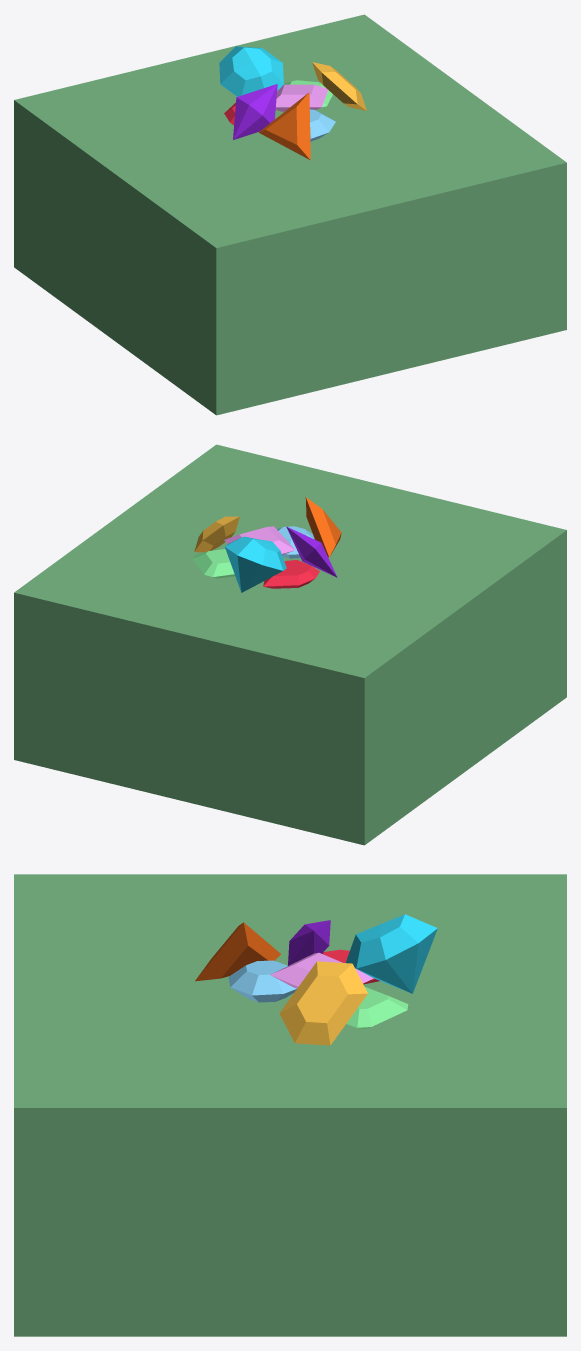
The model's file is GemPileForSketchfab.fbx.
The picture shows the model from 3 angles, top to bottom: view 1: azimuth 30°, elevation 25°; view 2: azimuth 150°, elevation 25°; view 3: azimuth 270°, elevation 25°; orthographic projection. The views are drawn at different scales.
Visible parts, largest first — view 1: Ground.001, LightBlue.001, Orange.001, Purple.001, Yellow.001, Pink.001, Blue.001; view 2: Ground.001, LightBlue.001, Orange.001, Red.001, Purple.001, Yellow.001, Green.001, Pink.001; view 3: Ground.001, Yellow.001, LightBlue.001, Orange.001, Blue.001, Green.001, Purple.001, Pink.001.
Part boxes in pixels (<box>): Ground.001: <box>14,14,566,415</box>; LightBlue.001: <box>219,46,283,96</box>; Orange.001: <box>259,92,310,160</box>; Purple.001: <box>233,84,277,139</box>; Yellow.001: <box>312,62,366,110</box>; Pink.001: <box>275,84,327,111</box>; Blue.001: <box>309,109,335,141</box>; Ground.001: <box>14,444,566,845</box>; LightBlue.001: <box>225,536,286,592</box>; Orange.001: <box>305,497,341,557</box>; Red.001: <box>263,560,319,588</box>; Purple.001: <box>286,526,337,577</box>; Yellow.001: <box>194,516,239,552</box>; Green.001: <box>192,549,234,578</box>; Pink.001: <box>224,526,295,554</box>; Ground.001: <box>14,874,566,1336</box>; Yellow.001: <box>279,961,367,1045</box>; LightBlue.001: <box>345,914,437,993</box>; Orange.001: <box>195,922,280,981</box>; Blue.001: <box>228,960,296,1002</box>; Green.001: <box>346,987,408,1029</box>; Purple.001: <box>288,920,330,965</box>; Pink.001: <box>270,952,373,988</box>.
Size of the model in its own units: 616 by 372 by 616.
